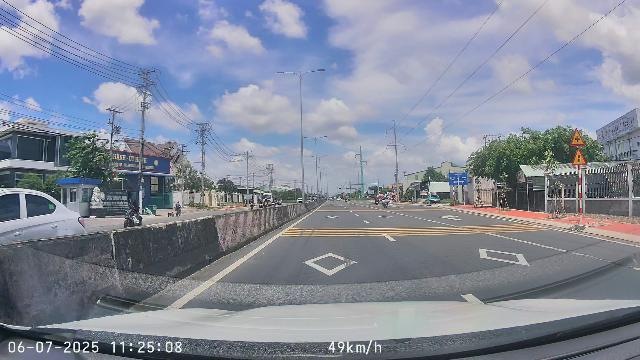209-giao-nhau-co-tin-hieu-den: (572, 148, 587, 166)
